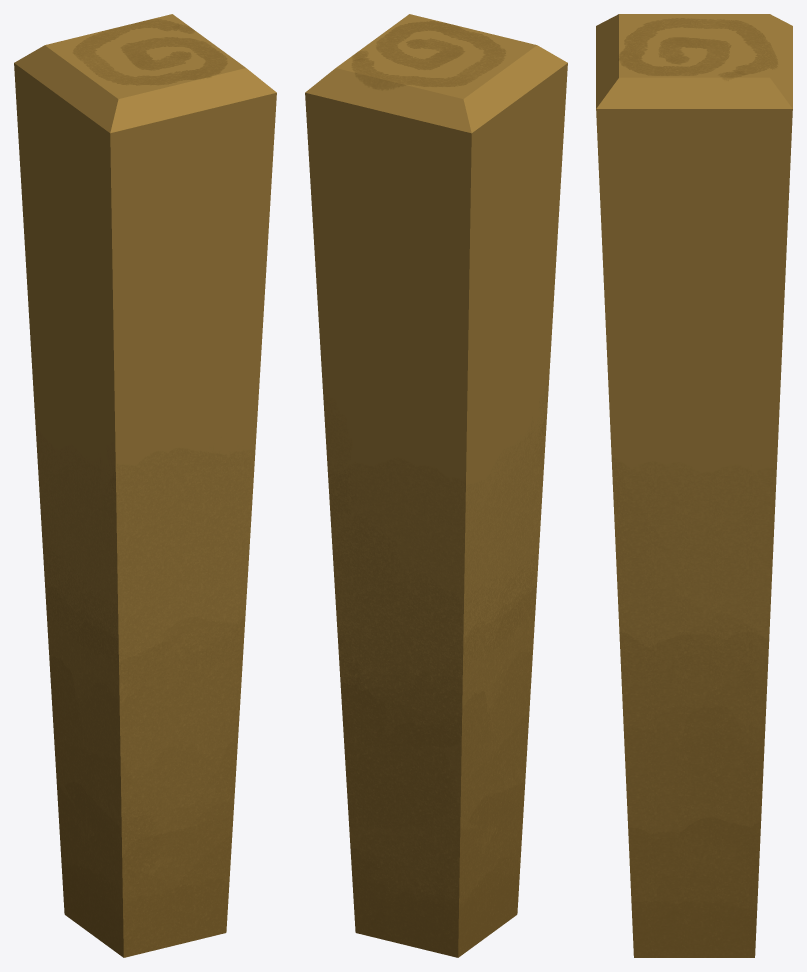
File: Bridges handle.glb
The picture shows the model from 3 angles, left to right: view 1: azimuth 30°, elevation 25°; view 2: azimuth 150°, elevation 25°; view 3: azimuth 270°, elevation 25°; orthographic projection. The views are drawn at different scales.
Parts seen in each view (by area): view 1: Cube.002; view 2: Cube.002; view 3: Cube.002.
Boxes of the visible parts, x1=… form: Cube.002: x1=14, y1=14, x2=276, y2=957; Cube.002: x1=305, y1=14, x2=567, y2=957; Cube.002: x1=596, y1=14, x2=792, y2=957.
Size of the model in its own units: 0.7908 by 3.93 by 0.7908.
Materials: 1 (1 with a texture image).
